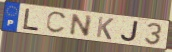3: (142, 22, 164, 46)
C: (45, 11, 69, 35)
J: (119, 20, 140, 43)
K: (95, 16, 115, 42)
L: (22, 7, 41, 32)
N: (68, 12, 94, 38)
